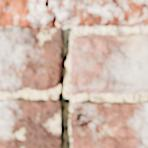brick: (71, 35, 147, 94), (0, 28, 61, 90), (71, 102, 147, 147), (0, 99, 61, 147)
broken_brick: (50, 0, 147, 27), (0, 0, 51, 25)
crack: (0, 0, 65, 146), (71, 111, 106, 140)
